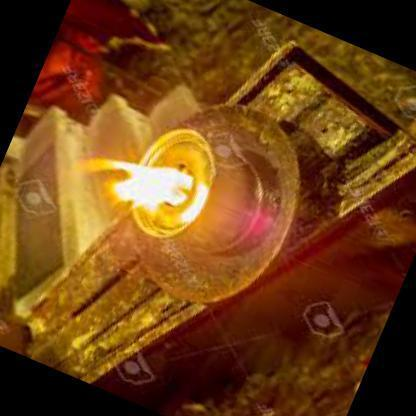Fire: (99, 160, 191, 220)
